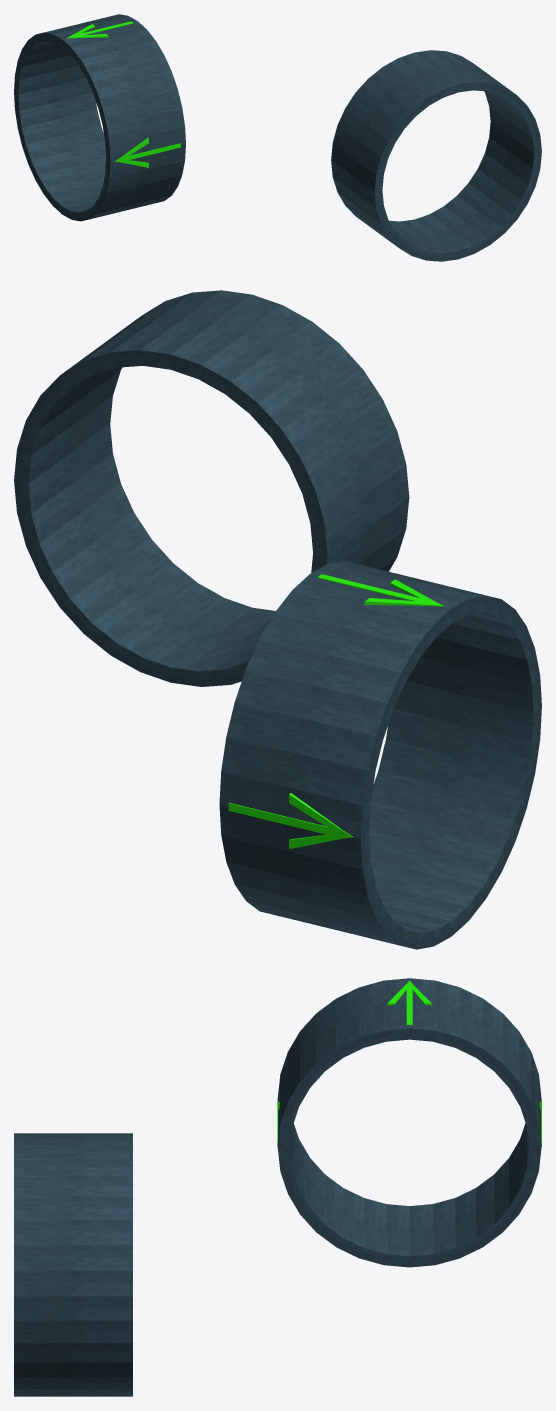
The model's file is Small Dark Energy Pipe 2.obj.
3 views of the same model, one above another, from view 1: azimuth 30°, elevation 25°; view 2: azimuth 150°, elevation 25°; view 3: azimuth 270°, elevation 25° (orthographic). The views are drawn at different scales.
Parts seen in each view (by area): view 1: Cylinder.007; view 2: Cylinder.007; view 3: Cylinder.007.
Part boxes in pixels (x1=…): Cylinder.007: x1=14, y1=14, x2=541, y2=261; Cylinder.007: x1=14, y1=290, x2=541, y2=949; Cylinder.007: x1=14, y1=978, x2=541, y2=1396.
Size of the model in its own units: 0.6667 by 0.3346 by 0.6673.
